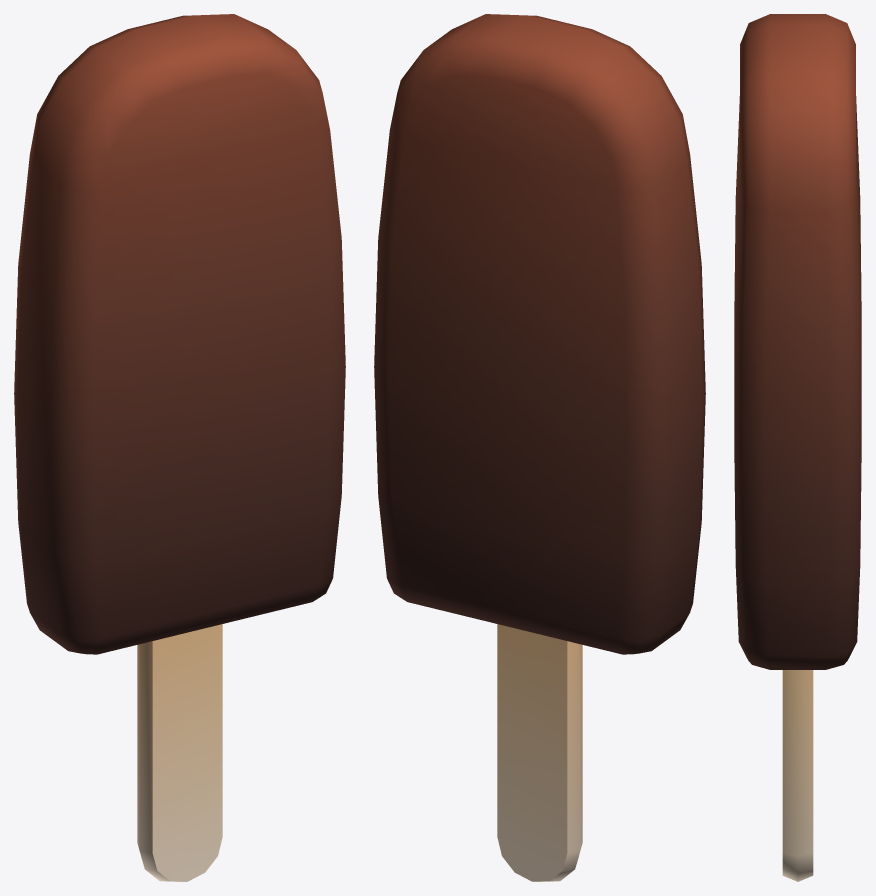
File: ice_cream_003.glb
3 views of the same model, side by side, from view 1: azimuth 30°, elevation 25°; view 2: azimuth 150°, elevation 25°; view 3: azimuth 270°, elevation 25° (orthographic).
Visible parts, largest first — view 1: ice_cream_003; view 2: ice_cream_003; view 3: ice_cream_003.
Boxes of the visible parts, x1,y1,x2,y2 form: ice_cream_003: [14, 14, 345, 881]; ice_cream_003: [374, 14, 705, 881]; ice_cream_003: [734, 14, 861, 881].
Size of the model in its own units: 0.0663 by 0.1843 by 0.0254.
Materials: 1 (1 with a texture image).
